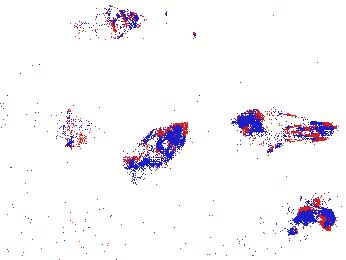X-ray fish: (127, 119, 189, 176), (79, 1, 148, 43), (53, 113, 92, 151)
red belly glassfish: (294, 203, 333, 227)
redtail glassfish: (232, 111, 339, 146)
